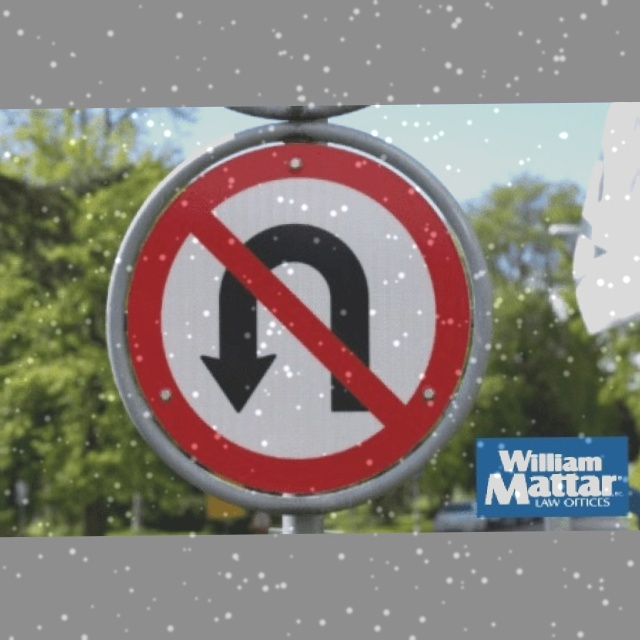U_Turn_Prohibited: (112, 127, 471, 479)
